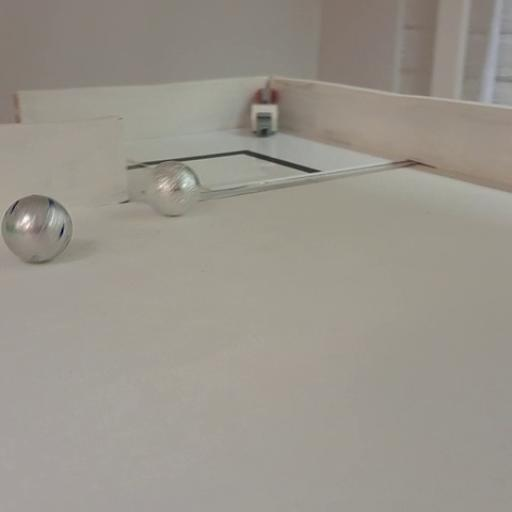alive: (0, 193, 73, 264), (141, 160, 204, 218)
